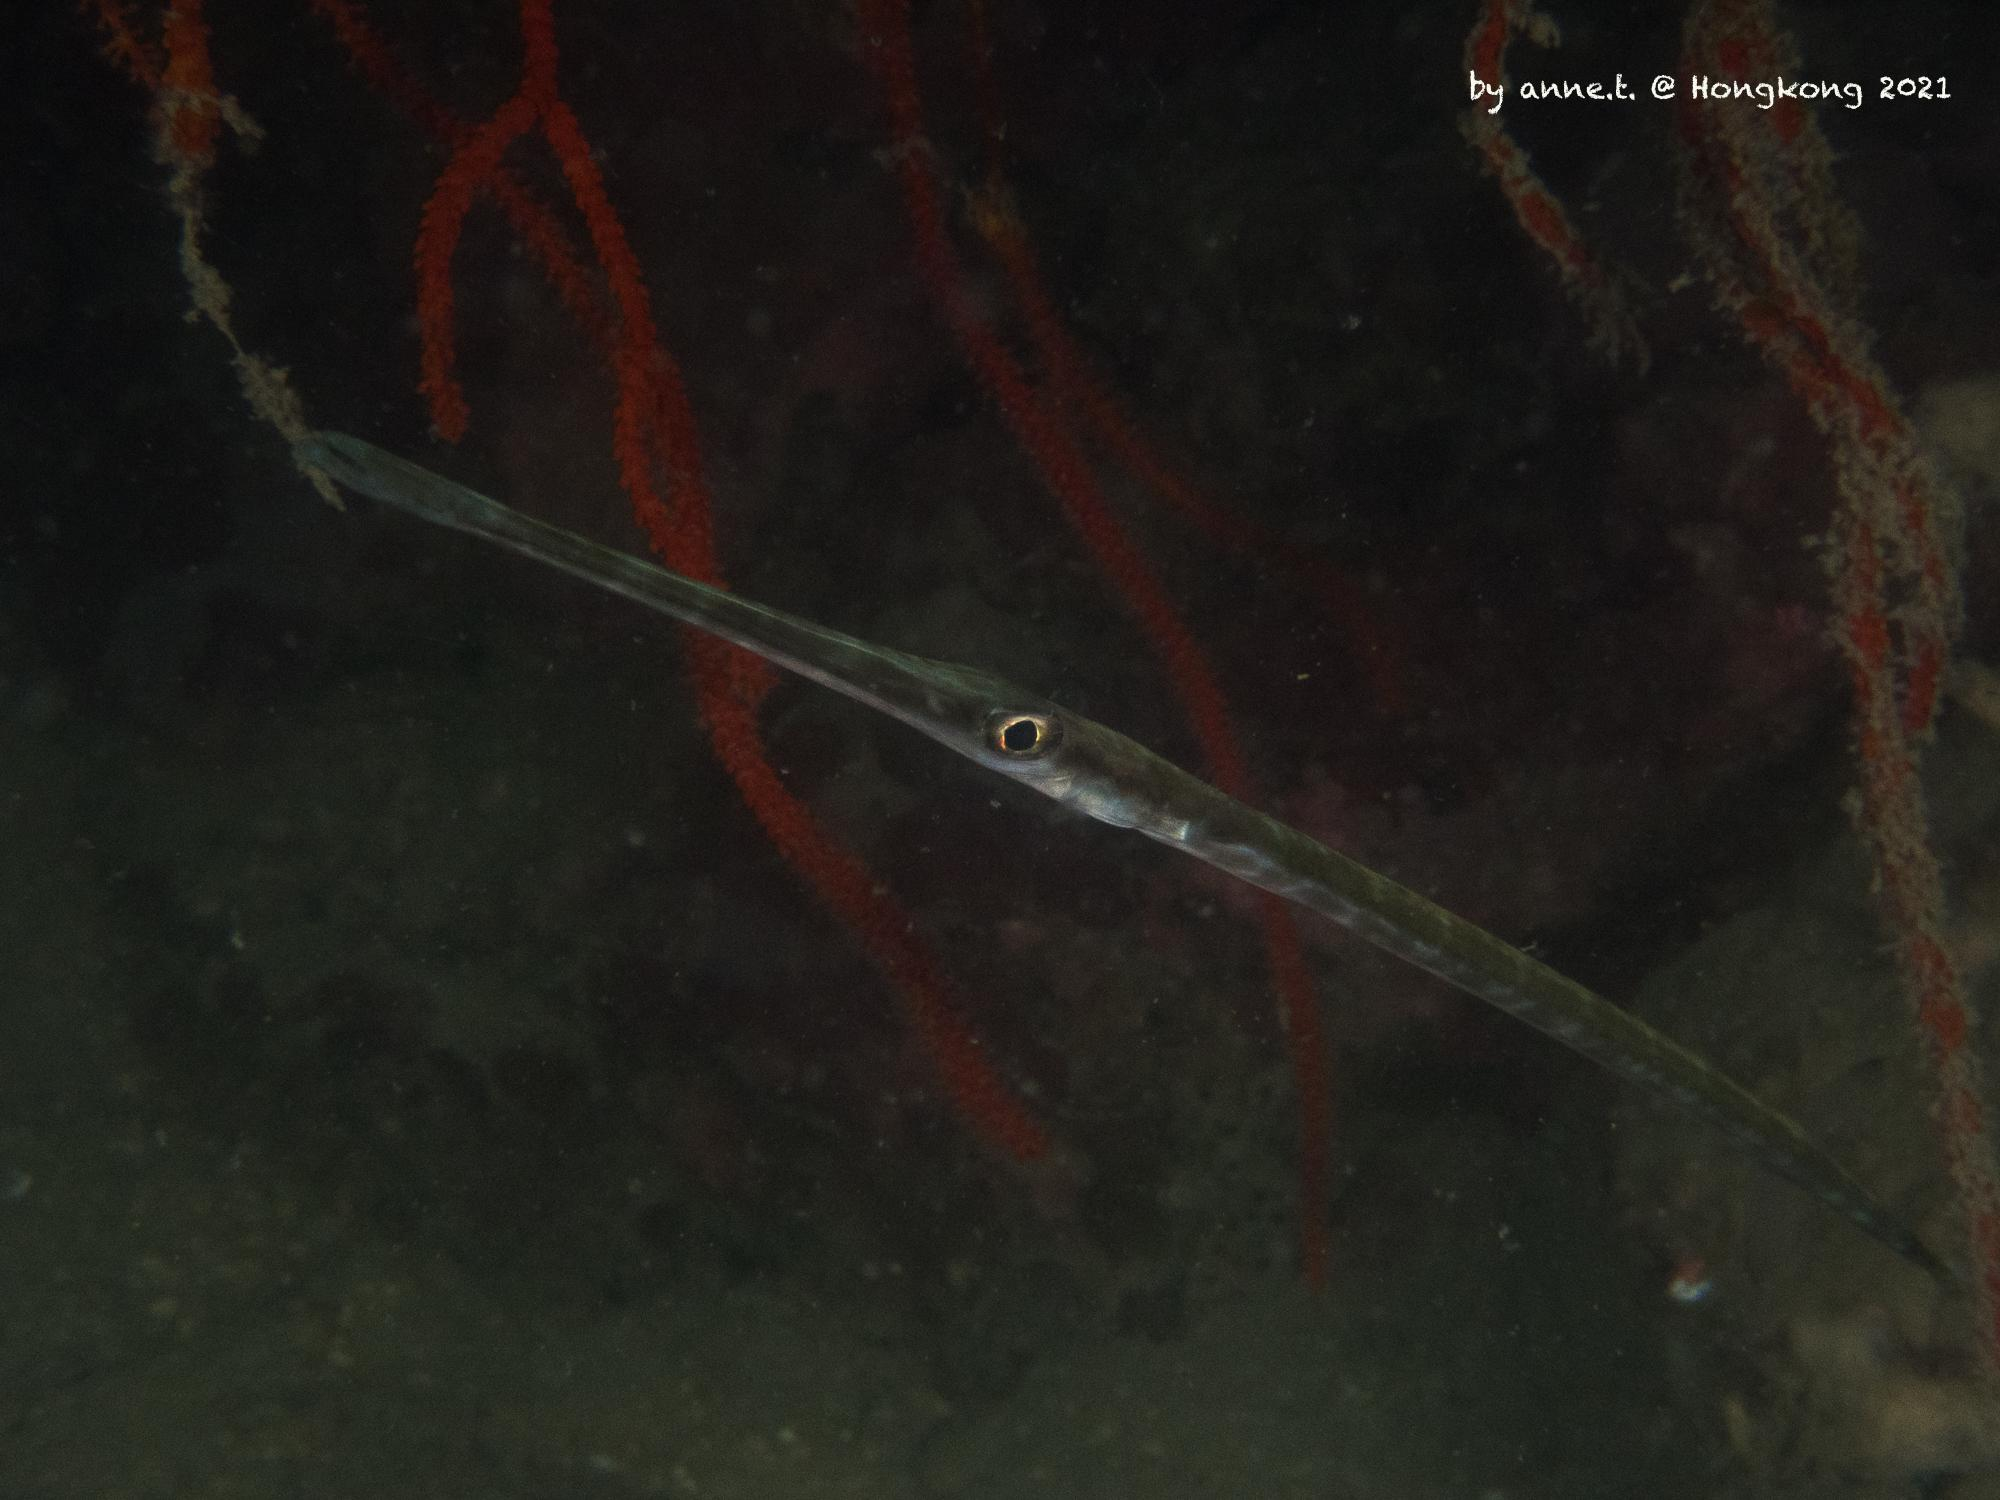Fistularia commersonii: (157, 395, 2000, 1454)
